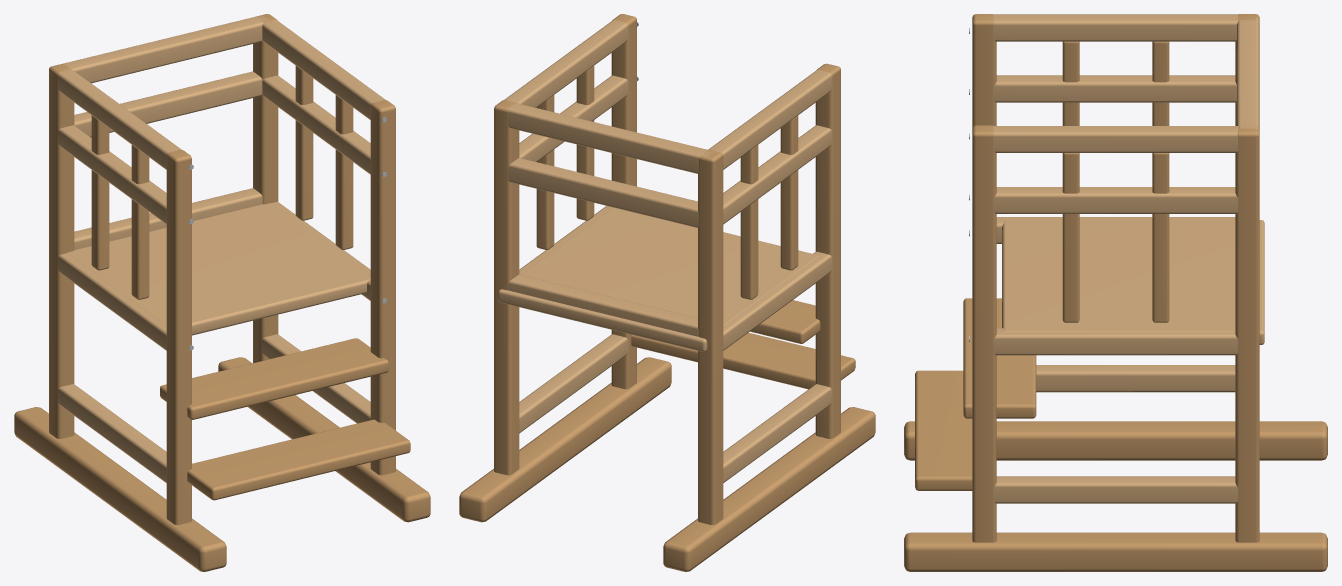
Rendered from toddler-learning-tower.glb.
3 renders of one model, left to right at view 1: azimuth 30°, elevation 25°; view 2: azimuth 150°, elevation 25°; view 3: azimuth 270°, elevation 25°, orthographic. The views are drawn at different scales.
Visible parts, largest first — view 1: toddler-learning-tower authored assembly; view 2: toddler-learning-tower authored assembly; view 3: toddler-learning-tower authored assembly.
Boxes of the visible parts, box(x1,y1,x2,y2) form: toddler-learning-tower authored assembly: box(14, 14, 430, 571); toddler-learning-tower authored assembly: box(459, 14, 875, 571); toddler-learning-tower authored assembly: box(904, 14, 1327, 571).
Size of the model in its own units: 0.6 by 0.97 by 0.85.
